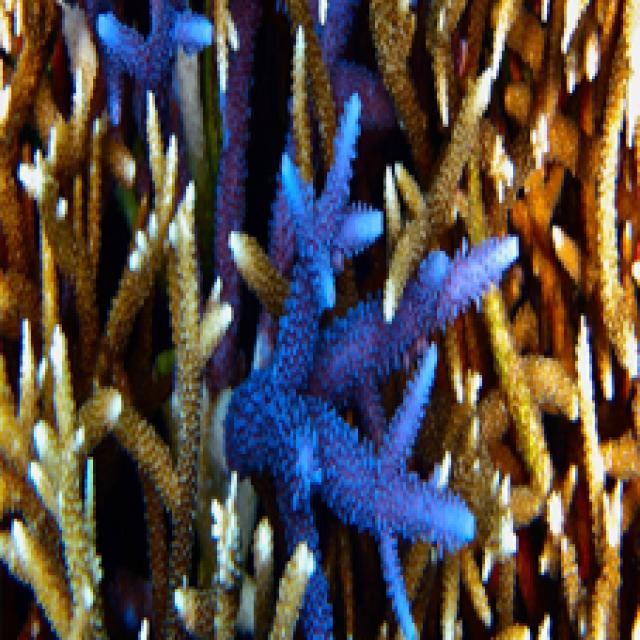Healthy: (351, 1, 638, 638), (224, 94, 517, 638), (1, 1, 235, 638), (215, 1, 258, 294), (100, 1, 212, 88), (305, 573, 331, 638)
